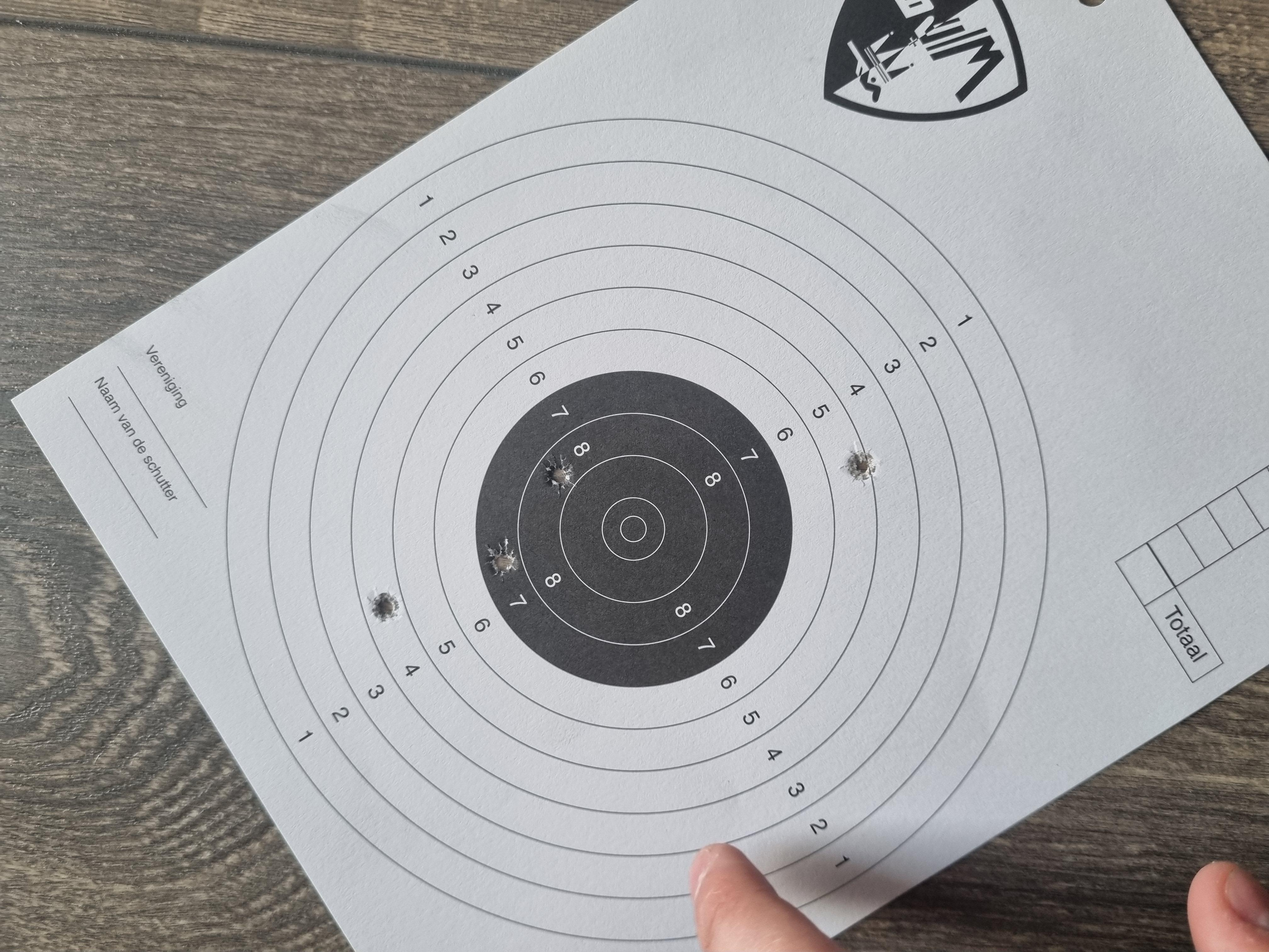hole: (604, 402, 660, 431), (496, 363, 546, 389), (625, 629, 669, 658), (438, 276, 480, 301)
